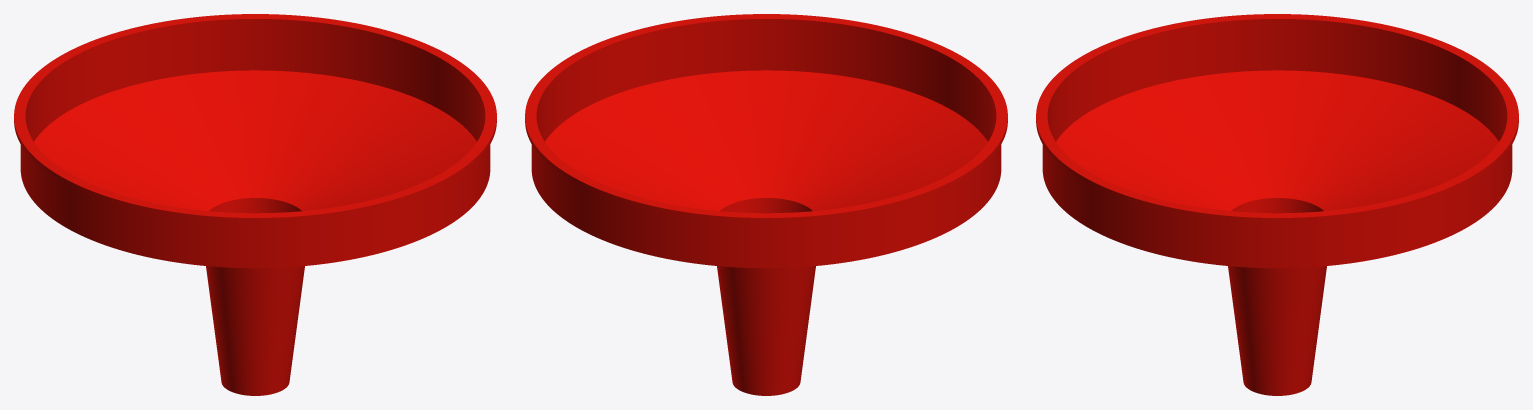
File: FunnelHP2.fbx
3 views of the same model, side by side, from view 1: azimuth 30°, elevation 25°; view 2: azimuth 150°, elevation 25°; view 3: azimuth 270°, elevation 25° (orthographic).
Visible parts, largest first — view 1: Funnel; view 2: Funnel; view 3: Funnel.
Boxes of the visible parts, x1=… form: Funnel: x1=14, y1=14, x2=496, y2=395; Funnel: x1=525, y1=14, x2=1007, y2=395; Funnel: x1=1036, y1=14, x2=1518, y2=395.
Size of the model in its own units: 1245 by 755 by 1245.
